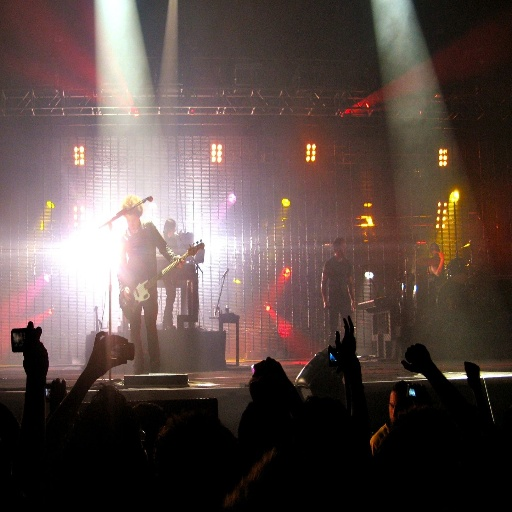hand: (87, 331, 129, 379), (21, 318, 48, 376), (334, 314, 356, 372), (401, 342, 432, 374), (48, 377, 66, 406), (123, 285, 133, 301), (175, 253, 183, 271), (349, 300, 356, 313), (322, 299, 329, 310), (437, 251, 444, 262)
